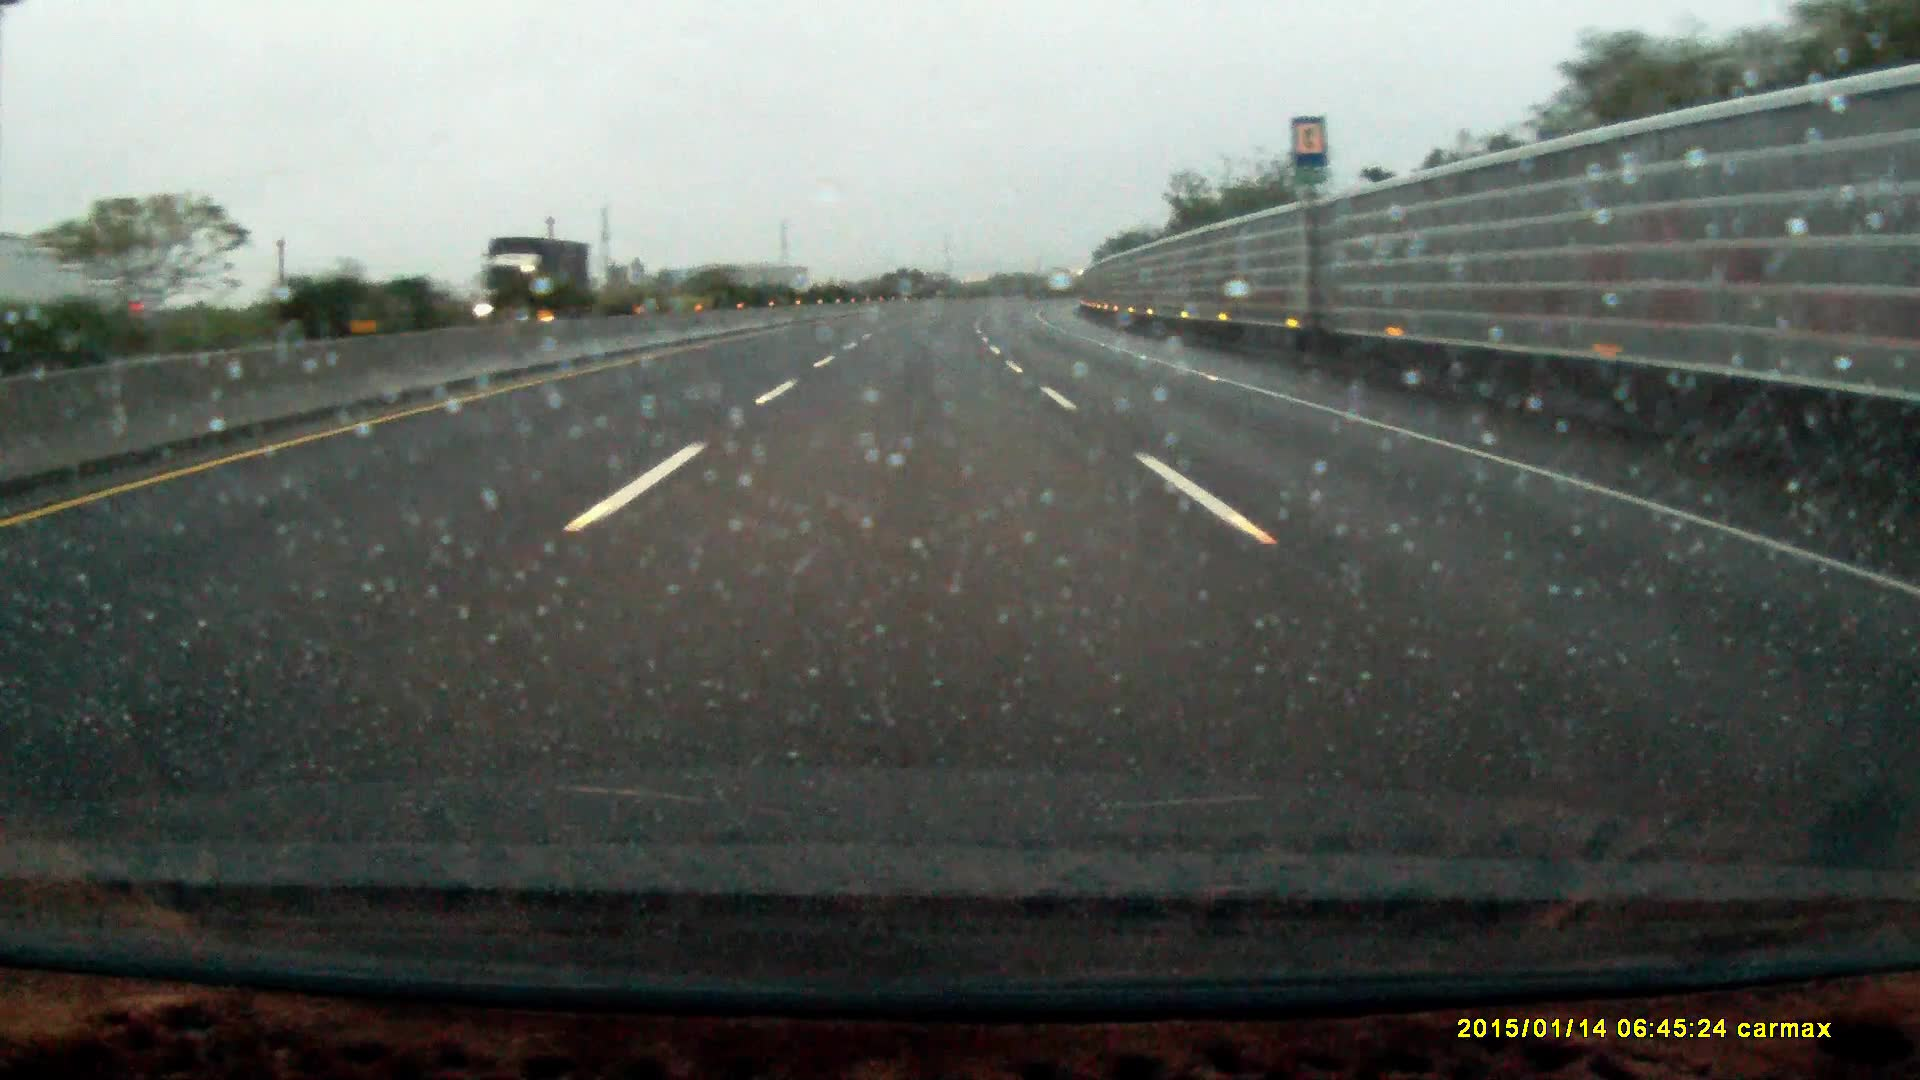vehicle: (483, 236, 592, 324)
